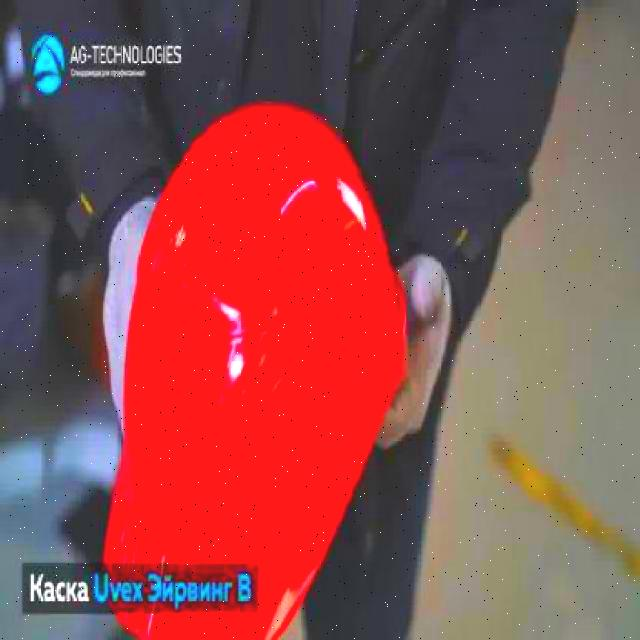Gloves: (370, 249, 456, 463), (97, 185, 163, 446)
Helmet: (100, 96, 411, 638)
